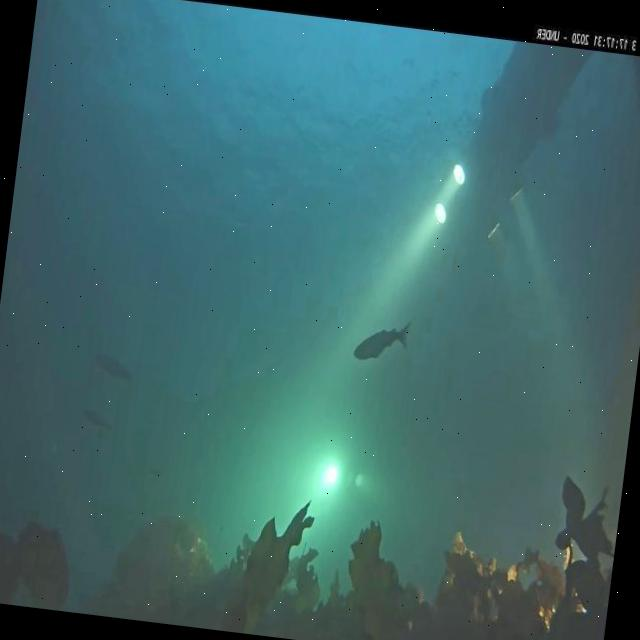fish: (353, 314, 411, 365), (91, 348, 138, 382), (79, 406, 111, 429)
